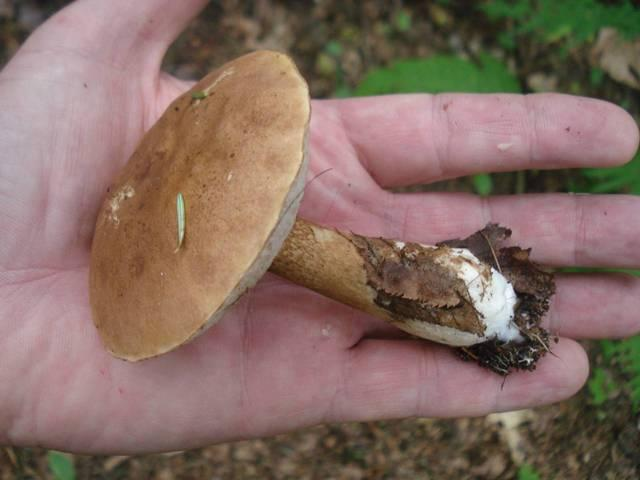poisonous_mushroom: (86, 48, 557, 372)
